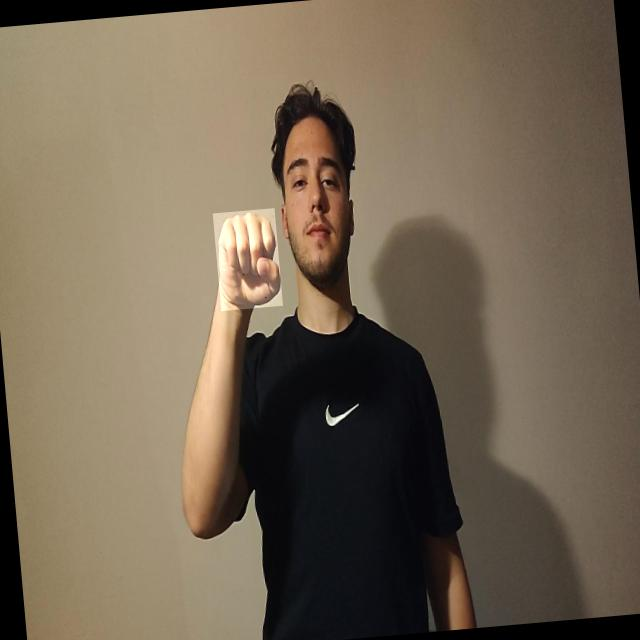yes: (212, 208, 282, 310)
